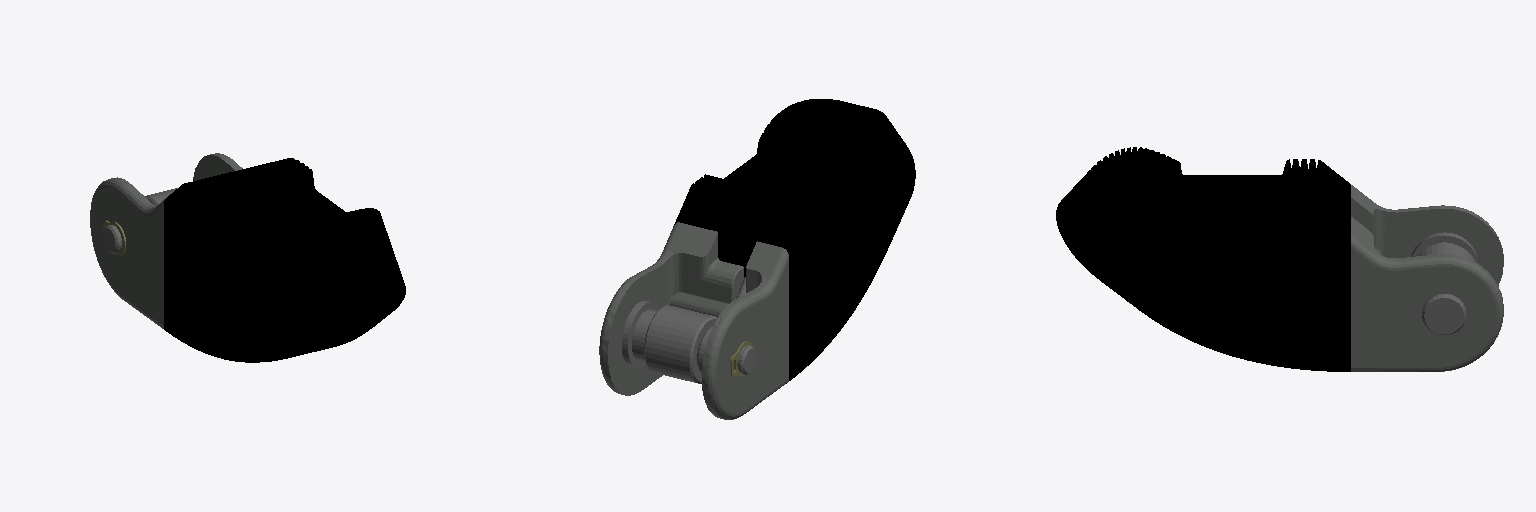
The model's file is if_distal.obj.
3 renders of one model, left to right at view 1: azimuth 30°, elevation 25°; view 2: azimuth 150°, elevation 25°; view 3: azimuth 270°, elevation 25°, orthographic.
Visible parts, largest first — view 1: index_distal_tip_SIH_right.024, index_distal_base_SIH_right.025, index_distal_axis_SIH_right.020; view 2: index_distal_tip_SIH_right.024, index_distal_base_SIH_right.025, index_distal_axis_SIH_right.020; view 3: index_distal_tip_SIH_right.024, index_distal_base_SIH_right.025, index_distal_axis_SIH_right.020.
Boxes of the visible parts, x1=… form: index_distal_tip_SIH_right.024: x1=164, y1=158, x2=405, y2=362; index_distal_base_SIH_right.025: x1=90, y1=153, x2=242, y2=328; index_distal_axis_SIH_right.020: x1=103, y1=188, x2=177, y2=253; index_distal_tip_SIH_right.024: x1=674, y1=99, x2=915, y2=383; index_distal_base_SIH_right.025: x1=599, y1=222, x2=788, y2=419; index_distal_axis_SIH_right.020: x1=622, y1=277, x2=756, y2=383; index_distal_tip_SIH_right.024: x1=1056, y1=147, x2=1350, y2=371; index_distal_base_SIH_right.025: x1=1351, y1=185, x2=1503, y2=371; index_distal_axis_SIH_right.020: x1=1412, y1=232, x2=1477, y2=335.
Size of the model in its own units: 20 by 26.5 by 60.06.